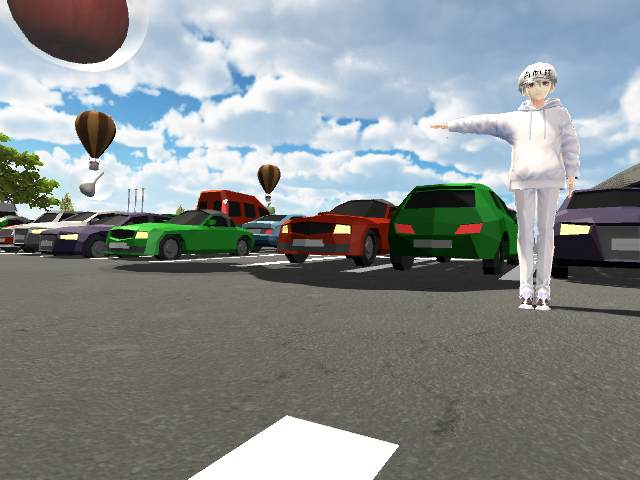singleP_left: (430, 60, 580, 312)
